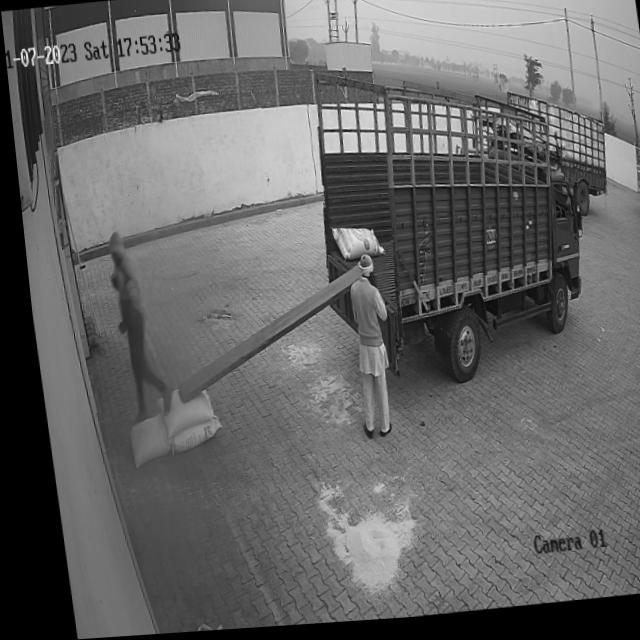sack: (147, 387, 206, 436), (117, 413, 161, 467), (324, 226, 379, 268), (158, 418, 213, 454)
